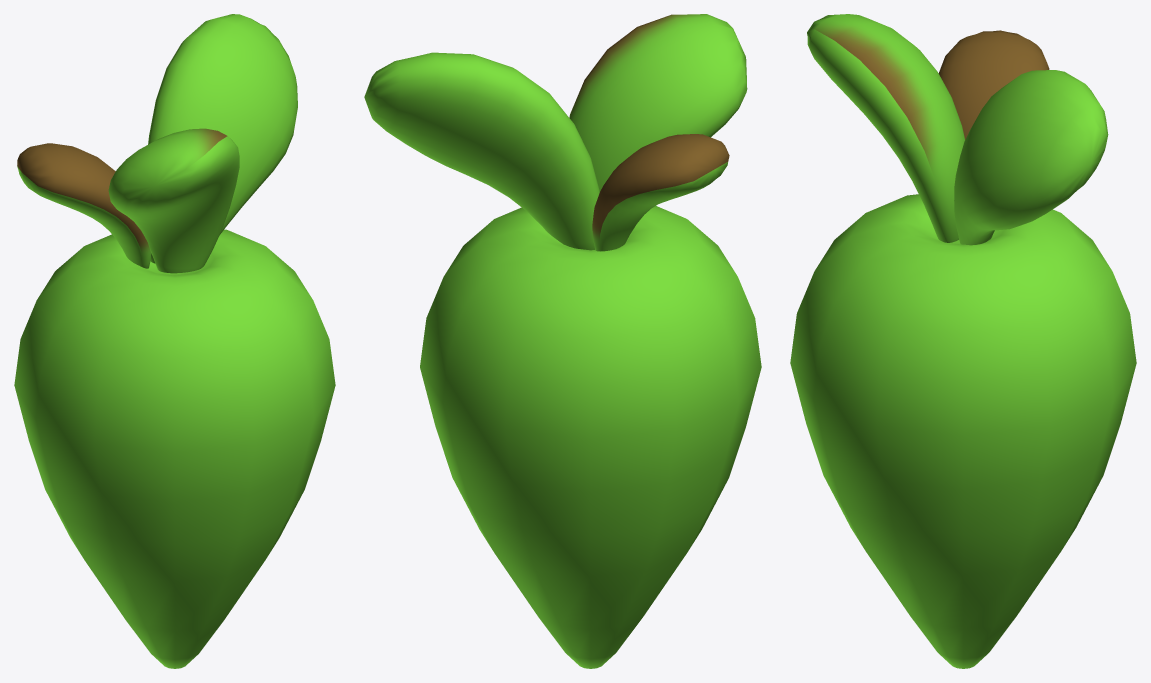
File: Carrot.fbx
3 views of the same model, side by side, from view 1: azimuth 30°, elevation 25°; view 2: azimuth 150°, elevation 25°; view 3: azimuth 270°, elevation 25° (orthographic). The views are drawn at different scales.
Parts seen in each view (by area): view 1: 柱体.001; view 2: 柱体.001; view 3: 柱体.001.
Part boxes in pixels (left/top/right/bottom): 柱体.001: left=14, top=14, right=335, bottom=668; 柱体.001: left=364, top=14, right=761, bottom=668; 柱体.001: left=790, top=14, right=1136, bottom=668.
Bounding box in the file's own units: 25.54 × 47.46 × 23.65.
